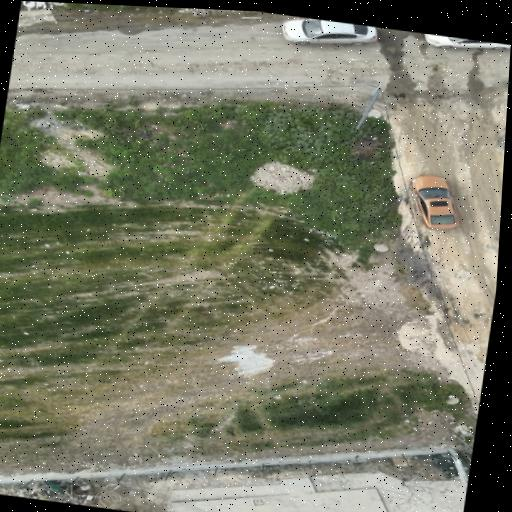car: (410, 174, 458, 228), (282, 18, 377, 44), (426, 34, 510, 49)
